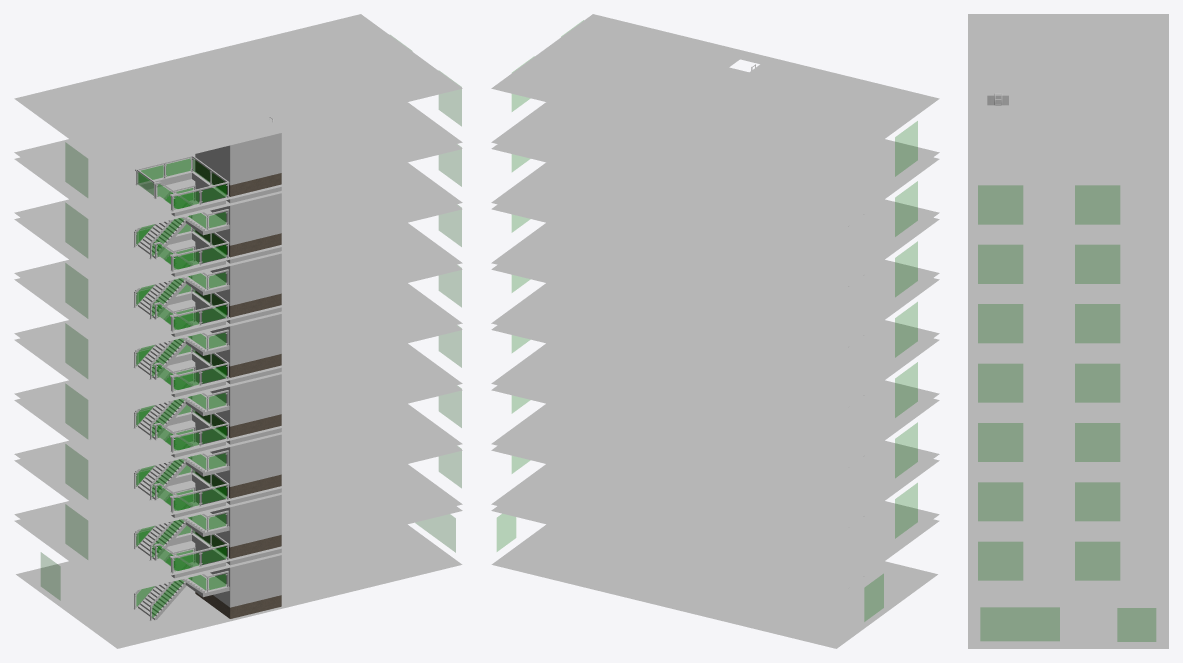
The model's file is SM_Building24_V3_Interior.fbx.
The picture shows the model from 3 angles, left to right: view 1: azimuth 30°, elevation 25°; view 2: azimuth 150°, elevation 25°; view 3: azimuth 270°, elevation 25°; orthographic projection.
Visible parts, largest first — view 1: SM_Building24_V3_Interior; view 2: SM_Building24_V3_Interior; view 3: SM_Building24_V3_Interior.
Boxes of the visible parts, x1,y1,x2,y2 form: SM_Building24_V3_Interior: (14, 14, 462, 648); SM_Building24_V3_Interior: (491, 14, 939, 648); SM_Building24_V3_Interior: (968, 14, 1168, 648).
Bounding box in the file's own units: 2486 × 3322 × 1242.
